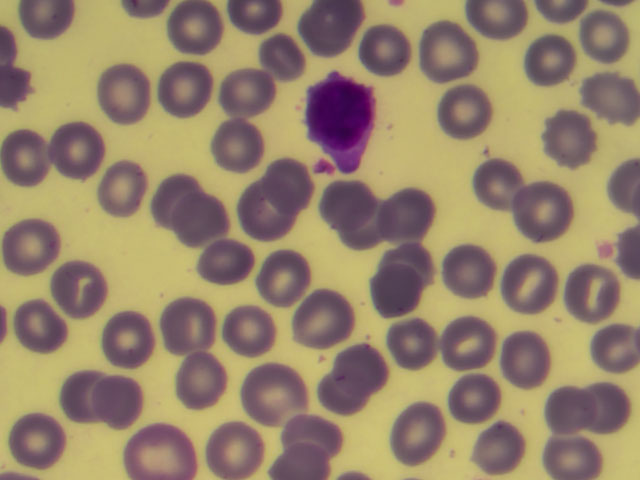Platelets: (595, 236, 615, 261)
RBC: (96, 63, 157, 127), (159, 58, 220, 122), (216, 59, 277, 123), (261, 23, 322, 87), (206, 110, 267, 174), (261, 149, 322, 213), (232, 184, 293, 248), (185, 234, 246, 298), (174, 188, 235, 252), (149, 164, 210, 228), (100, 157, 161, 221), (54, 120, 115, 184), (5, 128, 66, 192), (2, 211, 63, 275), (51, 251, 112, 315), (18, 291, 79, 355), (99, 305, 160, 369), (92, 379, 153, 443), (48, 365, 109, 429), (8, 416, 69, 480), (120, 416, 181, 480), (168, 346, 229, 410), (160, 289, 221, 353), (227, 295, 288, 359), (246, 239, 307, 303), (299, 285, 360, 349), (334, 334, 395, 398), (319, 368, 380, 432), (246, 364, 307, 428), (203, 416, 264, 480), (278, 400, 339, 464), (387, 404, 448, 468), (439, 368, 500, 432), (440, 309, 501, 373), (395, 313, 456, 377), (375, 268, 436, 332), (378, 243, 439, 307), (372, 183, 433, 247), (331, 176, 392, 240), (474, 147, 535, 211), (516, 172, 577, 236), (549, 109, 610, 173), (440, 82, 501, 146), (412, 25, 473, 89), (362, 15, 423, 79), (304, 3, 365, 67), (527, 23, 588, 87), (579, 61, 640, 125), (578, 7, 639, 71), (566, 260, 627, 324), (500, 255, 561, 319), (447, 243, 508, 307), (494, 326, 555, 390), (475, 415, 536, 479), (542, 374, 603, 438), (574, 373, 635, 437), (170, 1, 231, 64), (538, 433, 604, 480)
WBC: (304, 71, 392, 175)
